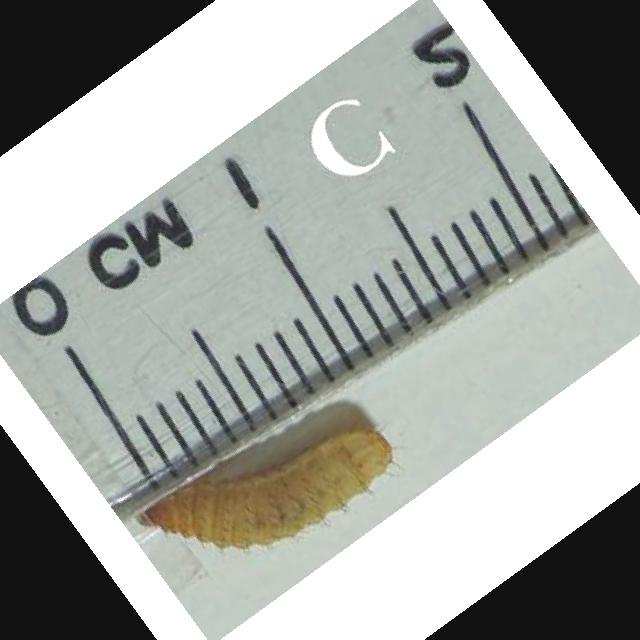Maggot: (138, 426, 395, 553)
